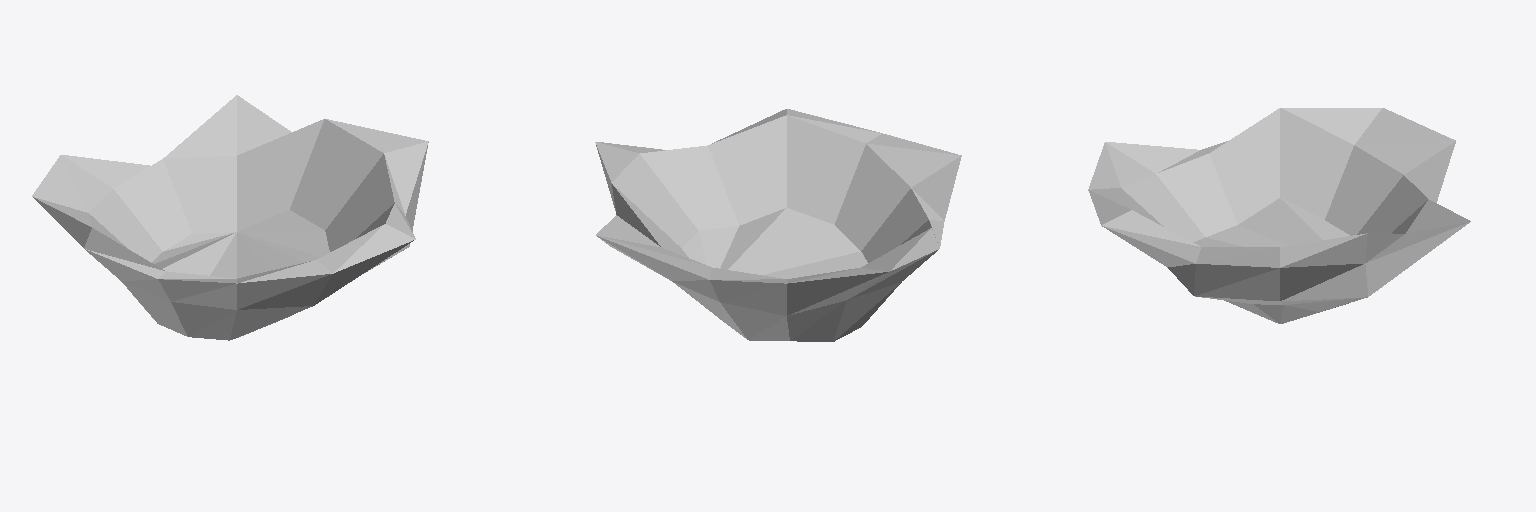
Rendered from birds_nest.obj.
The picture shows the model from 3 angles: view 1: azimuth 30°, elevation 25°; view 2: azimuth 150°, elevation 25°; view 3: azimuth 270°, elevation 25°; orthographic projection.
Bounding box in the file's own units: 1.11 × 0.475 × 1.06.